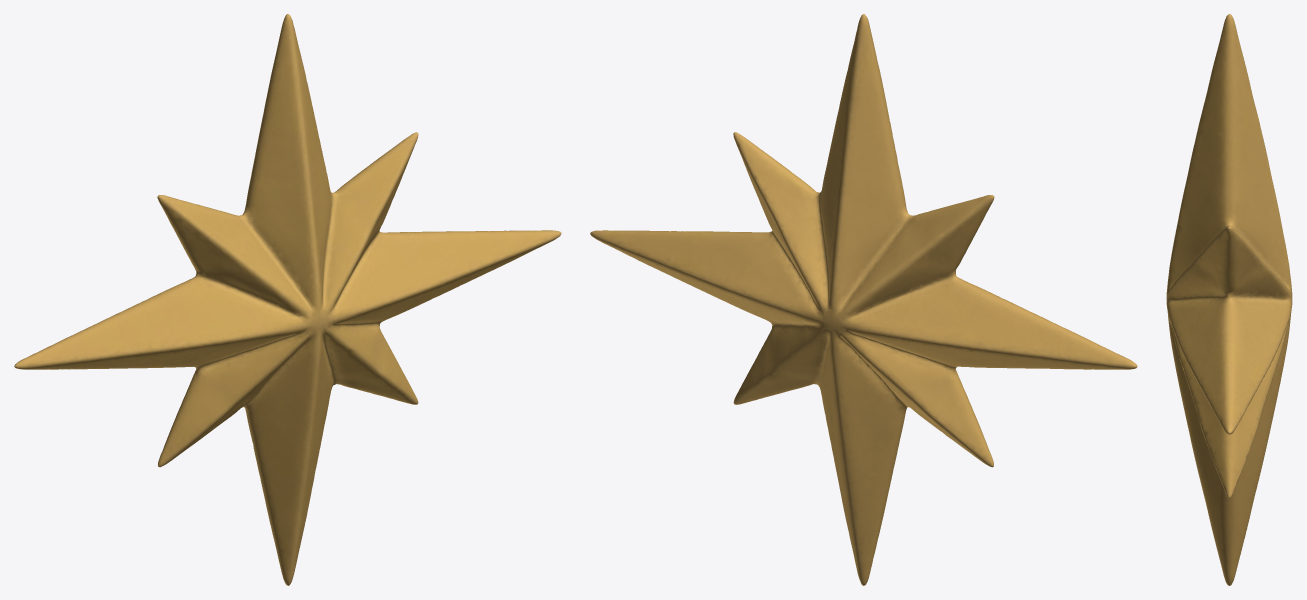
3 views of the same model, side by side, from view 1: azimuth 30°, elevation 25°; view 2: azimuth 150°, elevation 25°; view 3: azimuth 270°, elevation 25° (orthographic).
Size of the model in its own units: 1.9 by 1.9 by 0.3799.
Materials: 1 (1 with a texture image).
